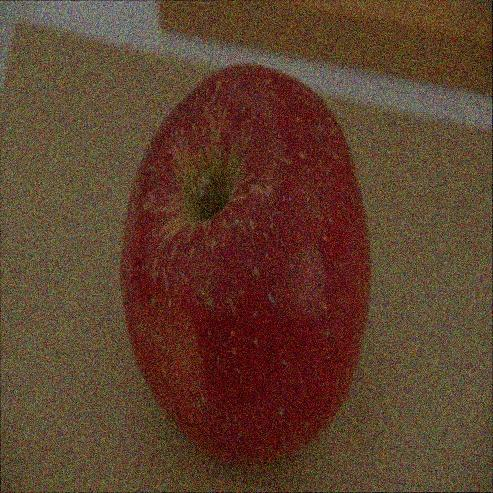red apple: (117, 62, 374, 464)
